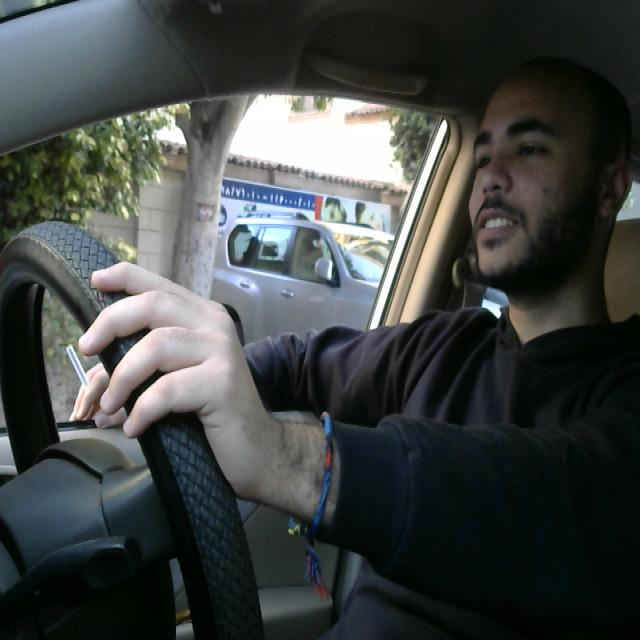smoking: (64, 336, 110, 428)
